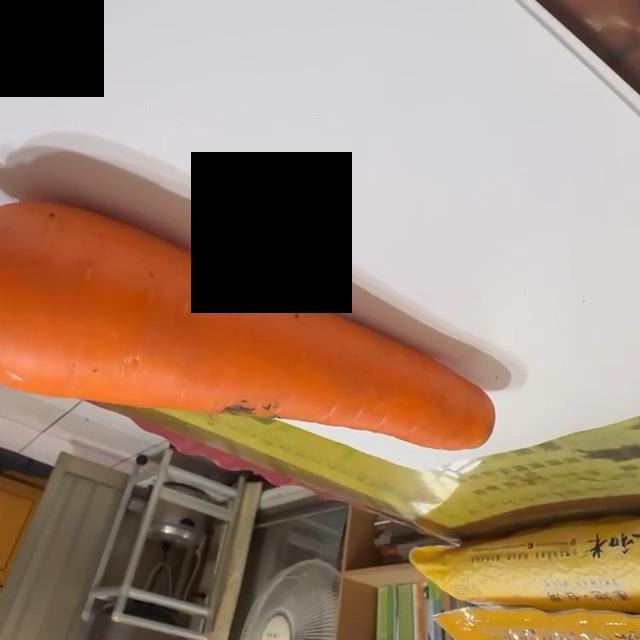carrot: (1, 203, 503, 458)
